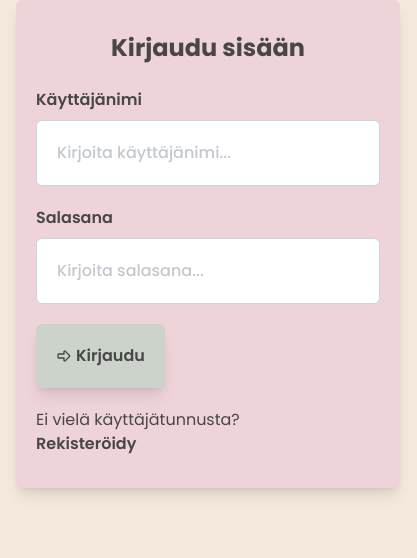
LoginForm Component › handles login failure
The width and height of the screenshot is (417, 558).
Type "testuser" into the field labelled "Käyttäjänimi".
click(208, 153); type("testuser")  # box [36, 120, 380, 186]
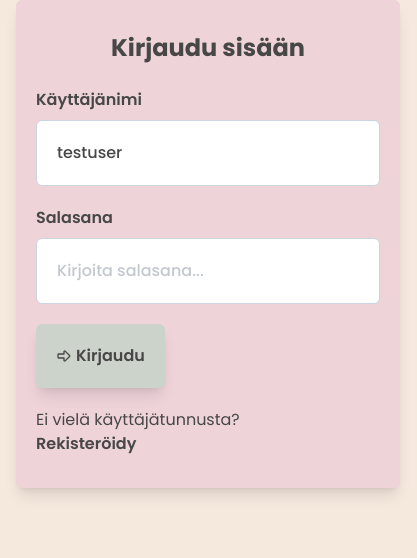
Type "password" into the password field labelled "Salasana".
click(208, 271); type("password")  # box [36, 238, 380, 304]
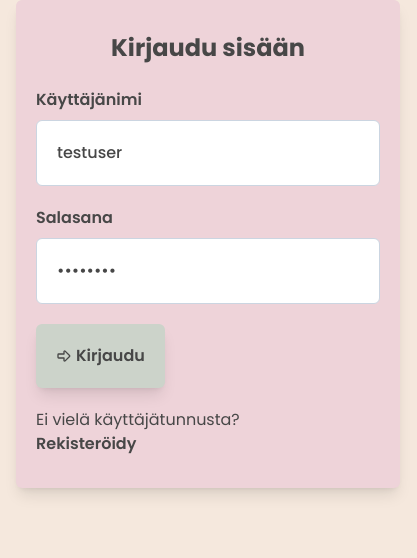
Click the button "Kirjaudu".
click(100, 356)  # box [36, 324, 165, 388]
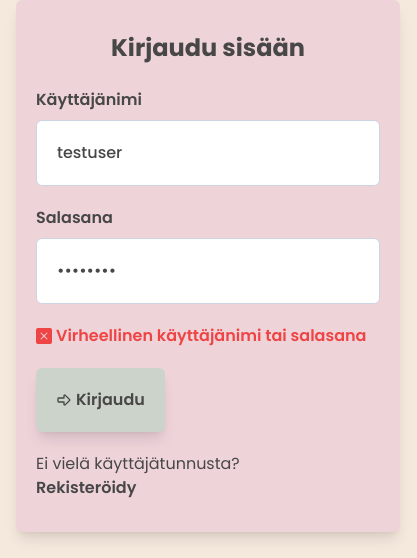
Result: the text "Virheellinen käyttäjänimi tai salasana" is shown at [36, 324, 380, 348]
